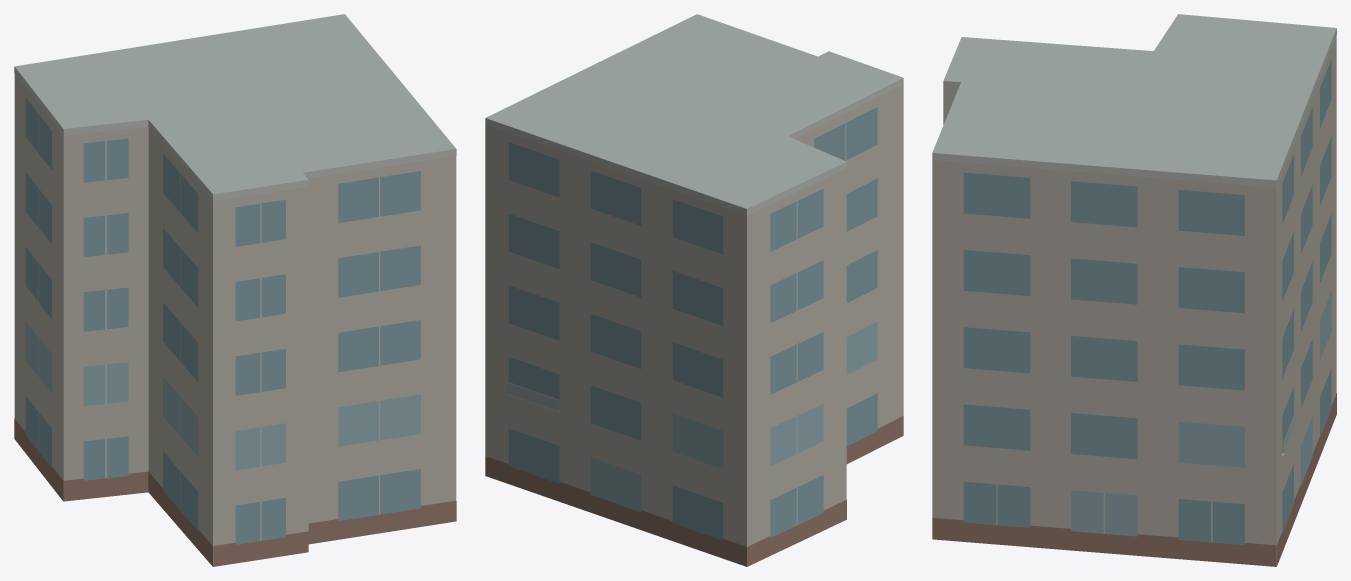
Rendered from survey-upis-32821908.glb.
The picture shows the model from 3 angles, left to right: view 1: azimuth 30°, elevation 25°; view 2: azimuth 150°, elevation 25°; view 3: azimuth 270°, elevation 25°; orthographic projection. The views are drawn at different scales.
Parts seen in each view (by area): view 1: survey-upis-32821908.tmp; view 2: survey-upis-32821908.tmp; view 3: survey-upis-32821908.tmp.
Boxes of the visible parts, <box> form: survey-upis-32821908.tmp: <box>14,14,456,566</box>; survey-upis-32821908.tmp: <box>485,14,903,566</box>; survey-upis-32821908.tmp: <box>932,14,1336,566</box>.
Bounding box in the file's own units: 12.25 × 13.25 × 12.58.
